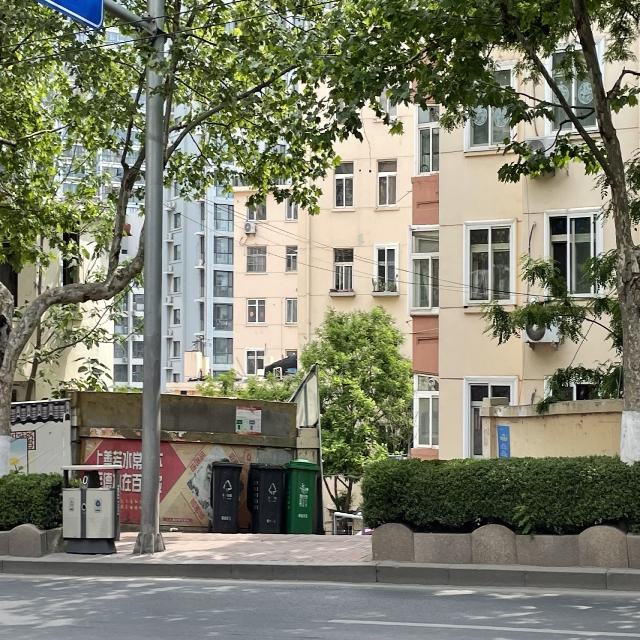garbage_bin: (61, 463, 118, 557), (245, 462, 284, 532), (283, 458, 319, 533), (209, 458, 242, 533)
